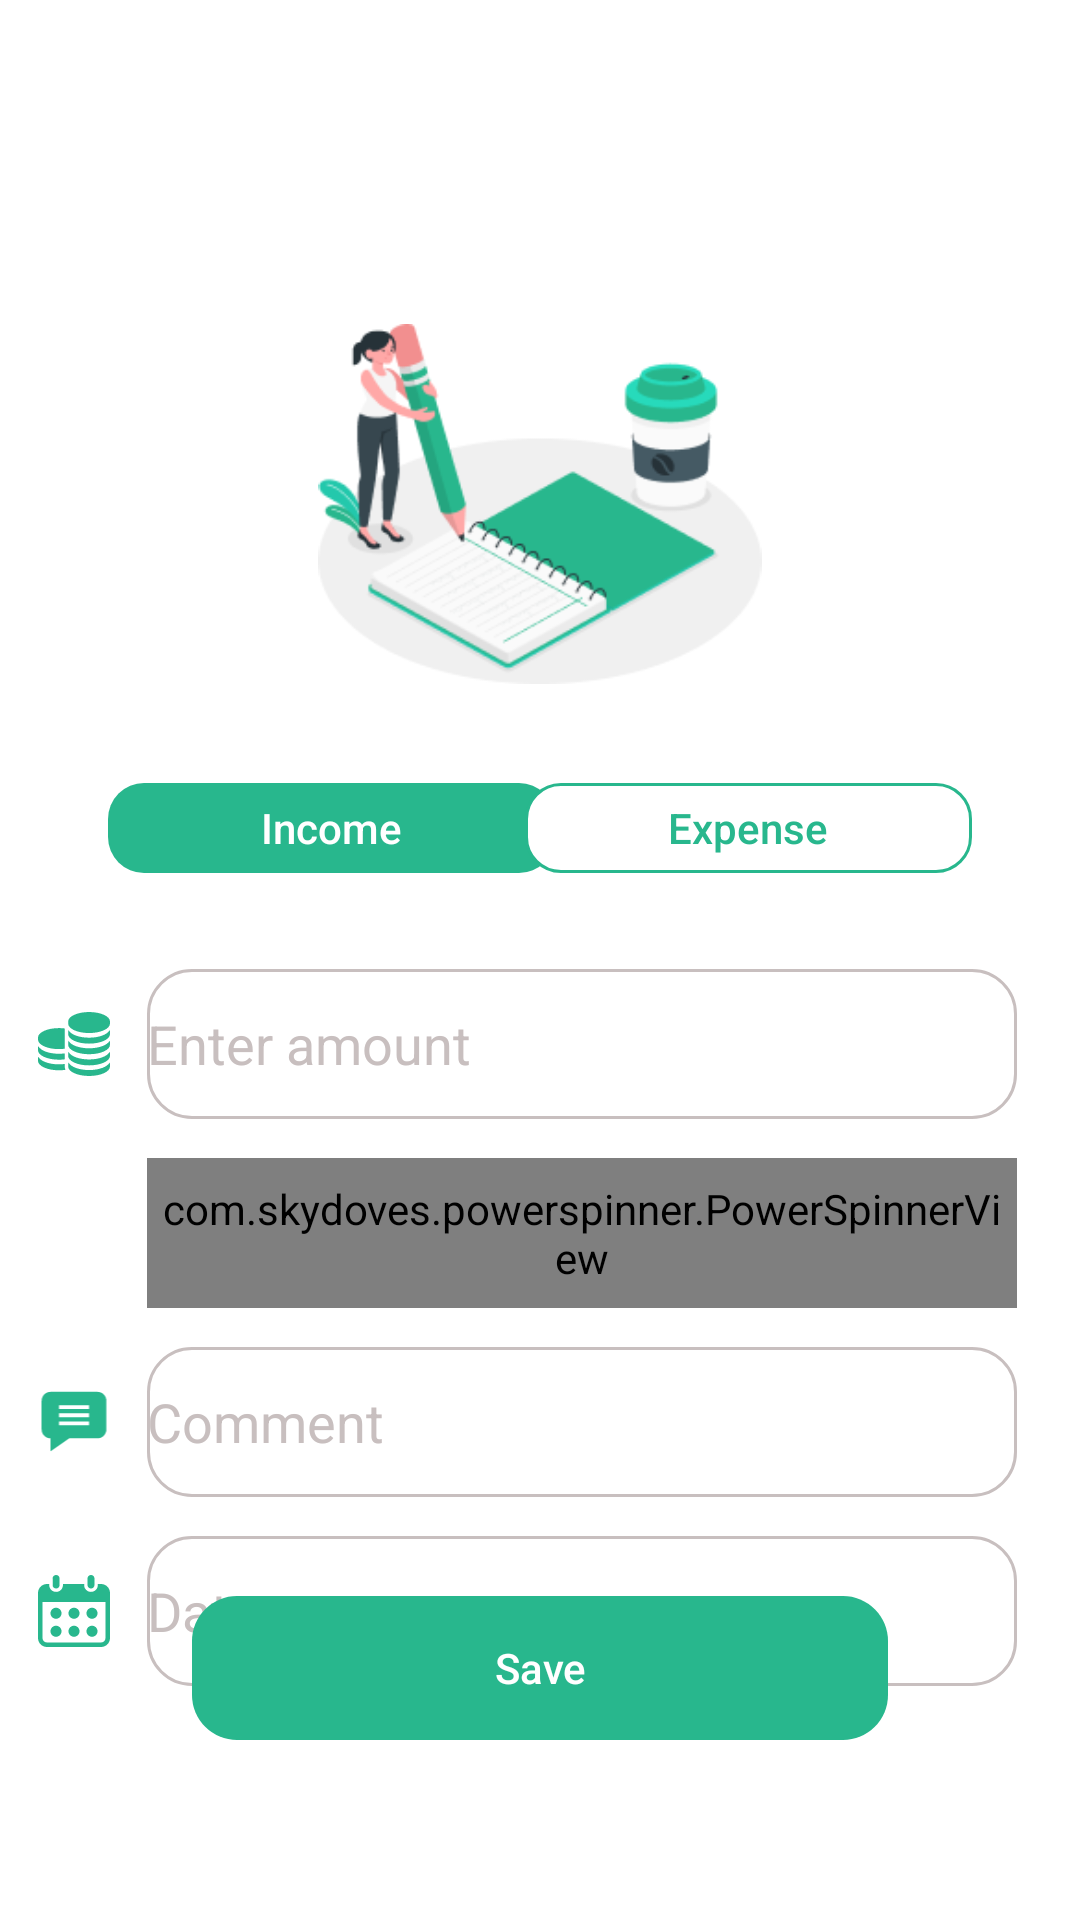

Icon bounding boxes for this 1080*1920 phone screenshot, format (x1, y1, x2, y2):
coin: (38, 1012, 110, 1076)
